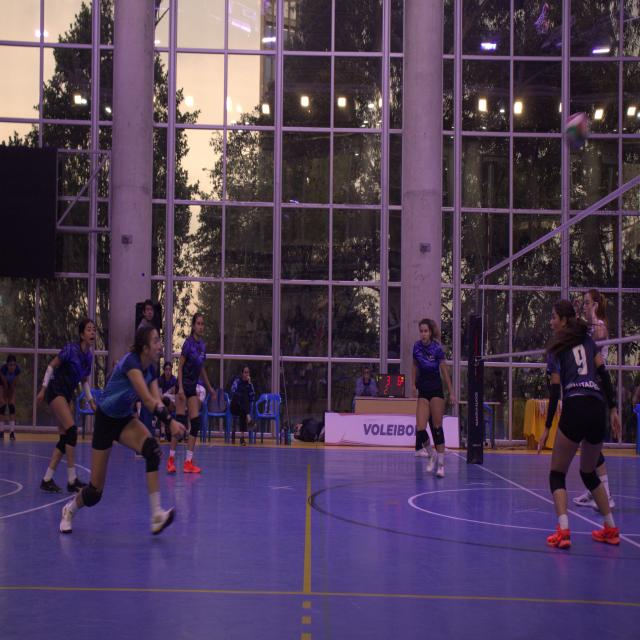volleyball: (565, 112, 588, 147)
